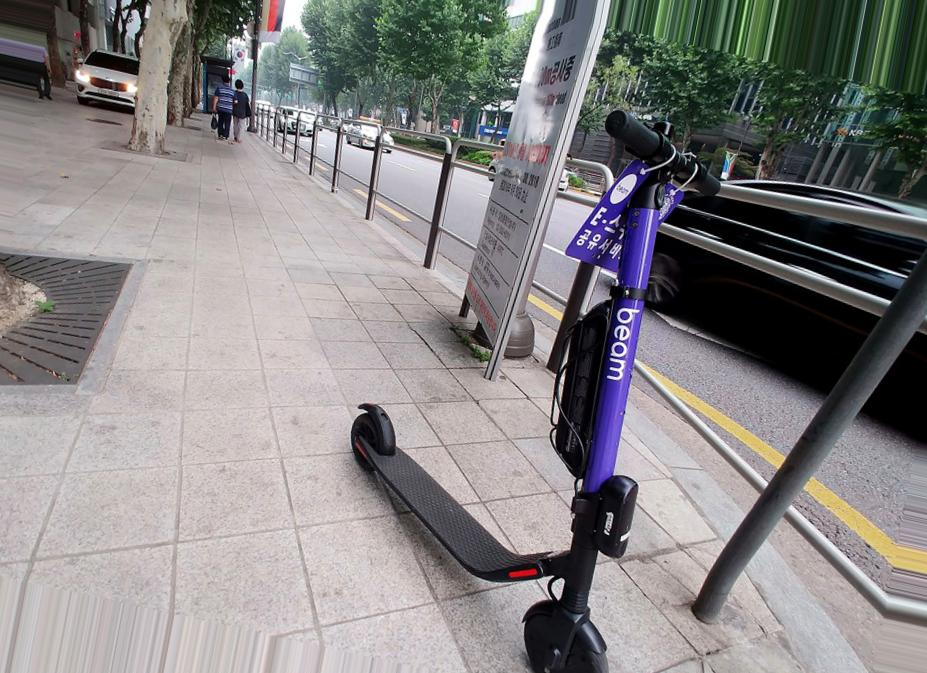scooter: (347, 108, 723, 673)
